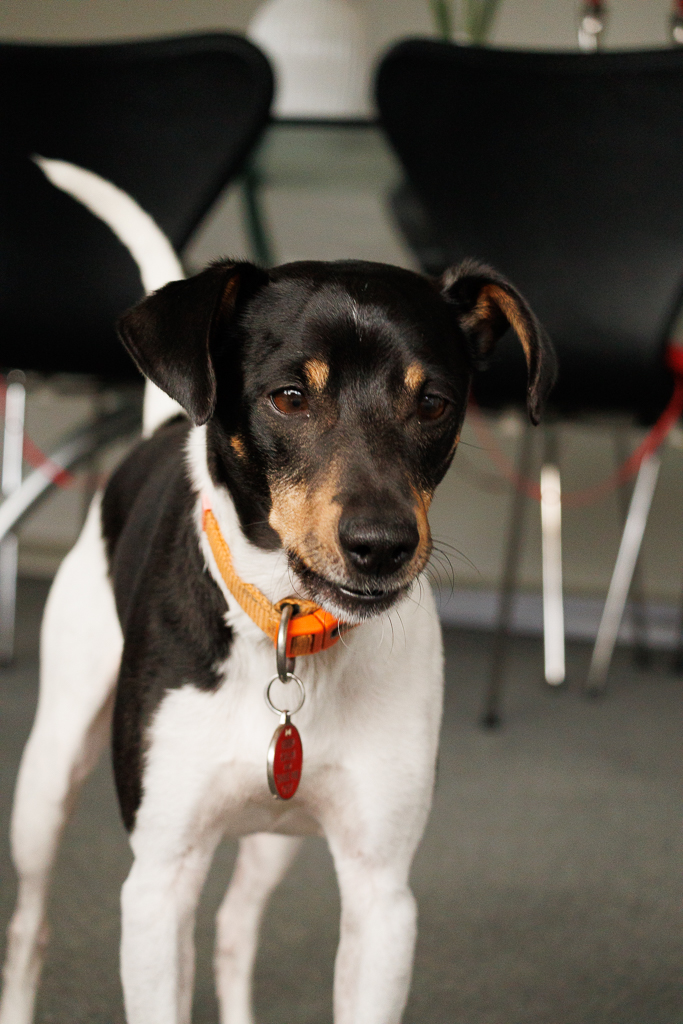Dog: (0, 147, 555, 1024)
